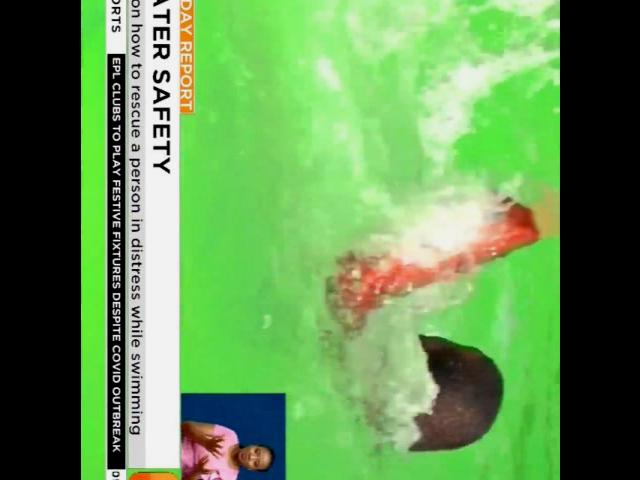drowning: (336, 165, 560, 467)
